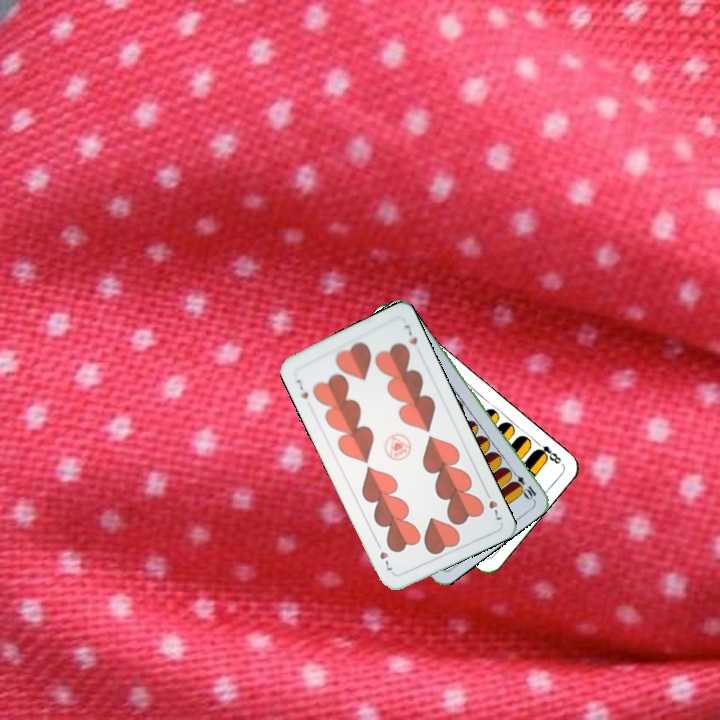E10: (507, 466, 539, 502)
E8: (531, 437, 564, 467)
H7: (481, 486, 505, 523), (292, 376, 311, 401)
